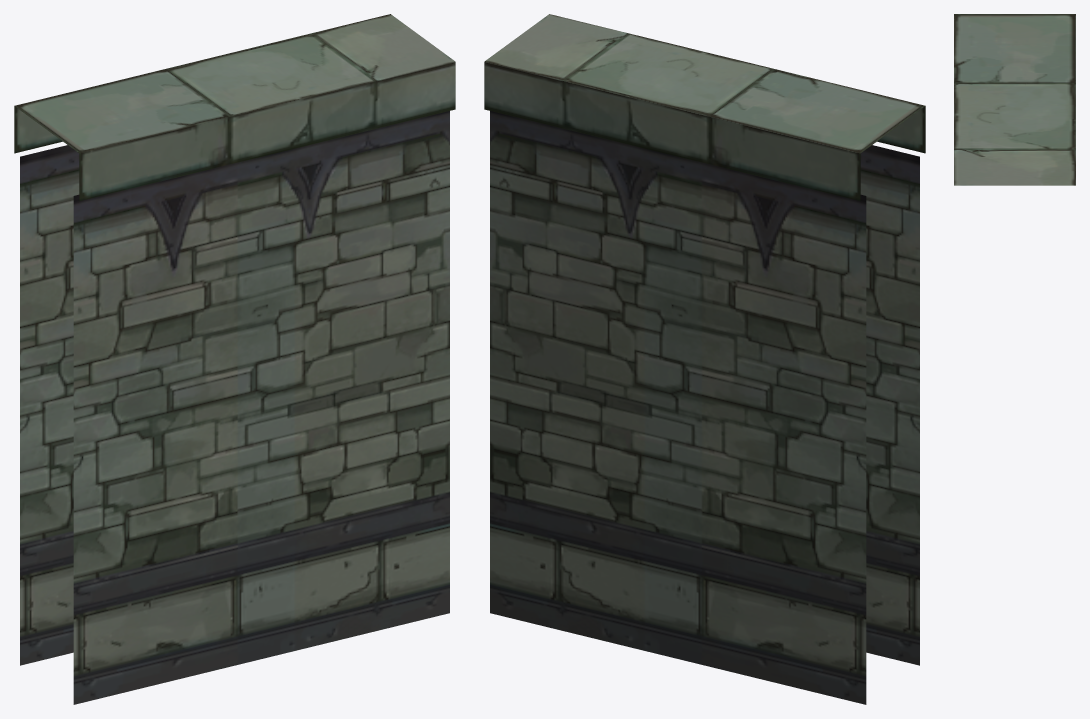
Rendered from 2_WGJ_WeiQiang_01_07.FBX.
The picture shows the model from 3 angles, left to right: view 1: azimuth 30°, elevation 25°; view 2: azimuth 150°, elevation 25°; view 3: azimuth 270°, elevation 25°; orthographic projection. The views are drawn at different scales.
Visible parts, largest first — view 1: 2_WGJ_WeiQiang_01_07; view 2: 2_WGJ_WeiQiang_01_07; view 3: 2_WGJ_WeiQiang_01_07.
Boxes of the visible parts, x1,y1,x2,y2 form: 2_WGJ_WeiQiang_01_07: (14,14,455,704); 2_WGJ_WeiQiang_01_07: (484,14,925,704); 2_WGJ_WeiQiang_01_07: (954,14,1075,185).
Size of the model in its own units: 500 by 705 by 150.
